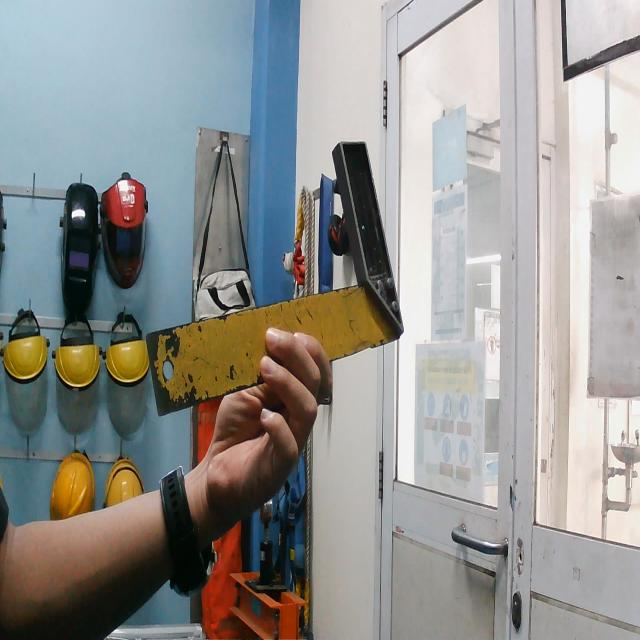penggaris_siku: (140, 130, 411, 425)
